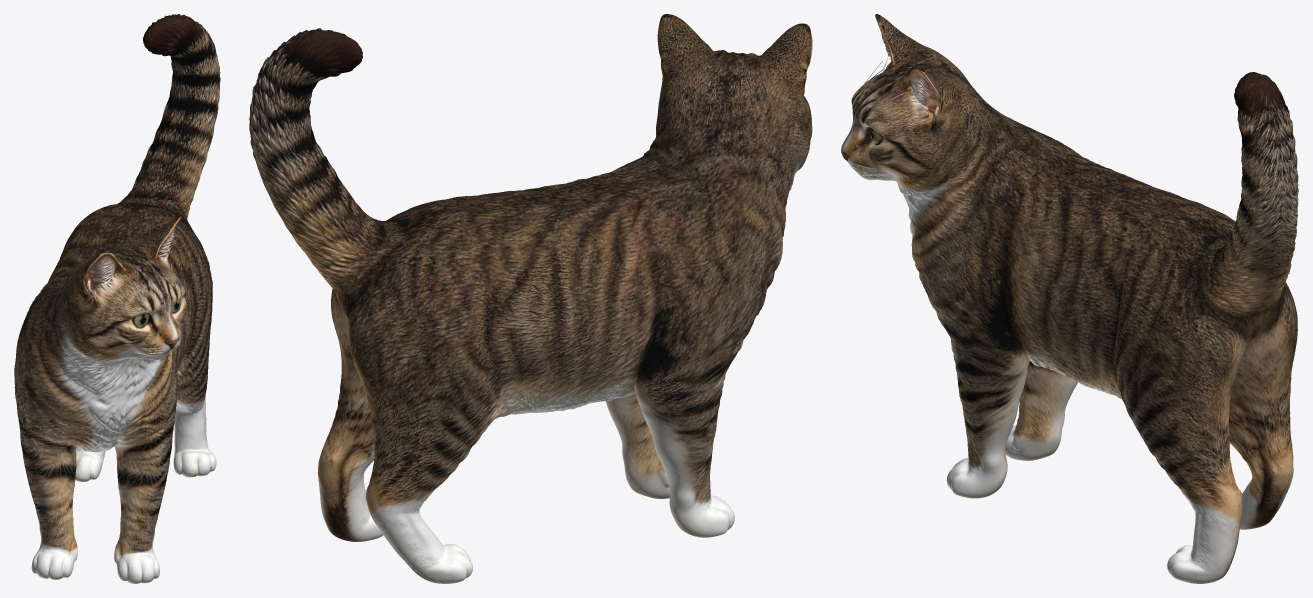
Rendered from cat-v3-reference-source.glb.
3 views of the same model, side by side, from view 1: azimuth 30°, elevation 25°; view 2: azimuth 150°, elevation 25°; view 3: azimuth 270°, elevation 25° (orthographic). The views are drawn at different scales.
Parts seen in each view (by area): view 1: cat; view 2: cat; view 3: cat.
Part boxes in pixels (x1,y1,x2,y2): cat: [14, 14, 220, 583]; cat: [249, 14, 812, 583]; cat: [841, 14, 1298, 583].
Size of the model in its own units: 0.3735 by 0.5 by 0.4146.
Materials: 1 (1 with a texture image).
